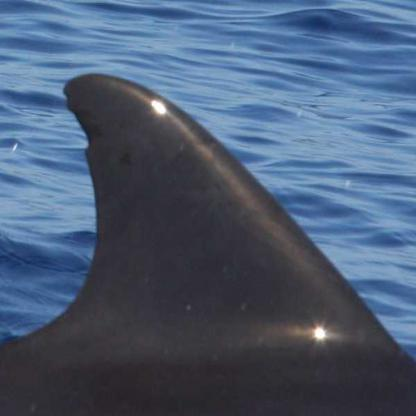dolphin-whale: (0, 63, 414, 415)
